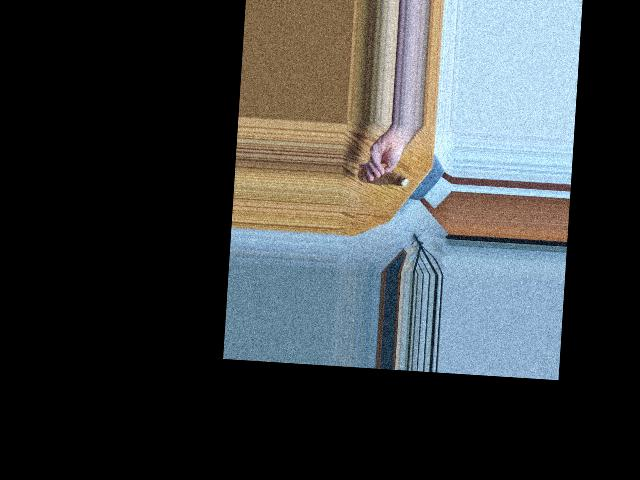sweet_potato: (365, 172, 410, 186)
